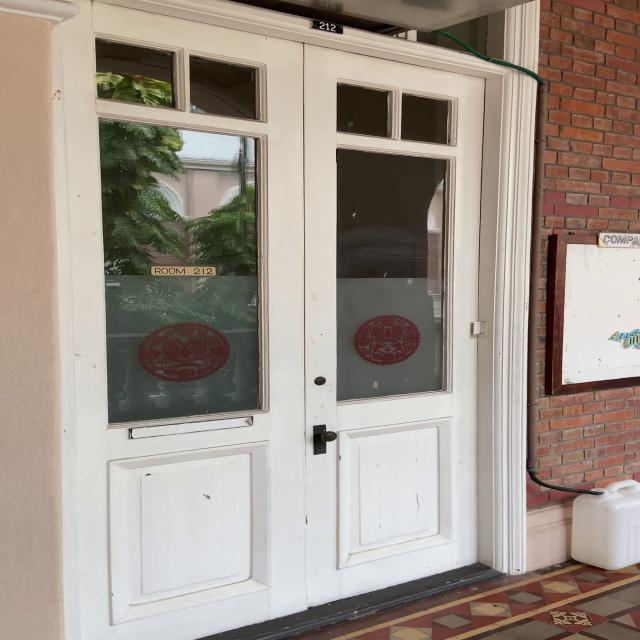room212: (301, 17, 352, 37)
room212Window: (143, 259, 224, 282)
